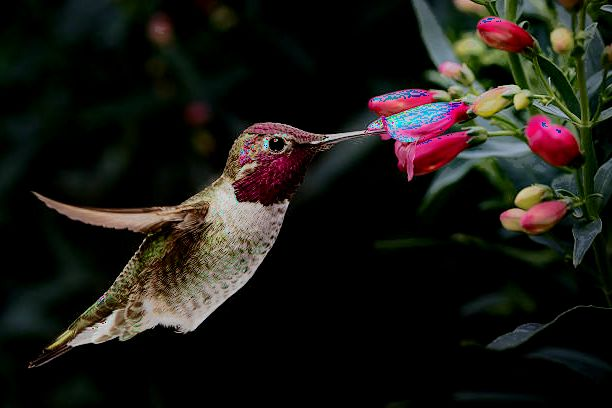Bird: (28, 110, 387, 370)
